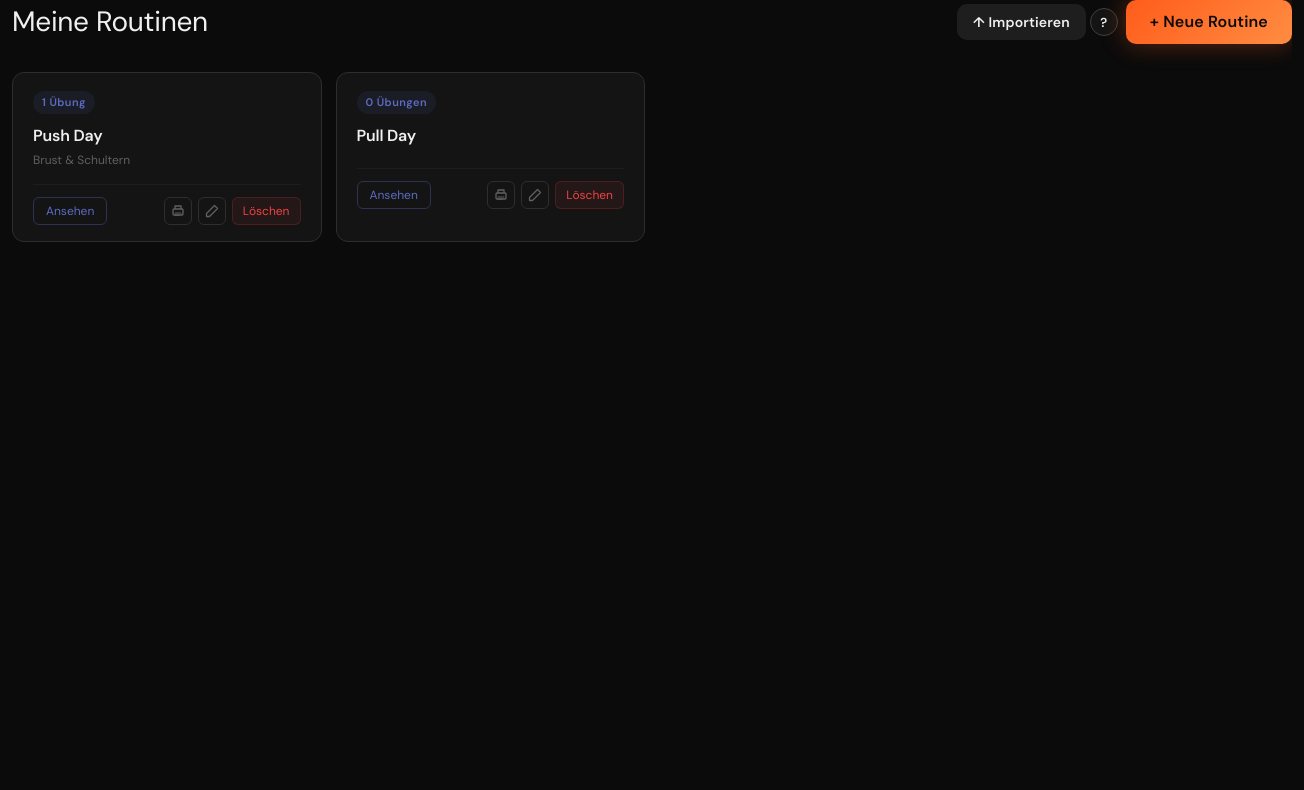
Test: RoutineList – Import-Infobox › shows the Claude prompt text
Click the button named "import-hilfe anzeigen" at (1104, 22), box [1090,8,1118,36]
(page scrolled)
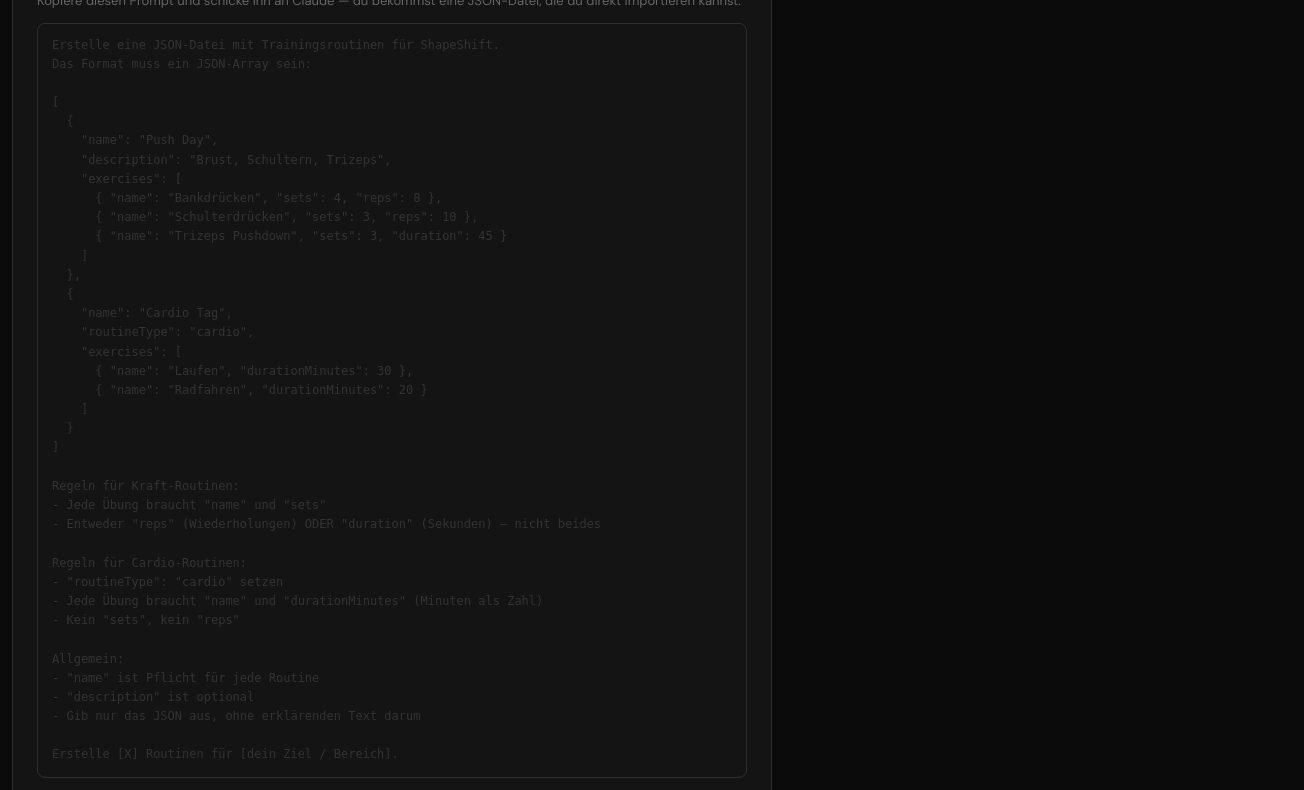
expect the text "Erstelle eine JSON-Datei mit Trainingsroutinen" is shown: met, box [52,38,601,761]
